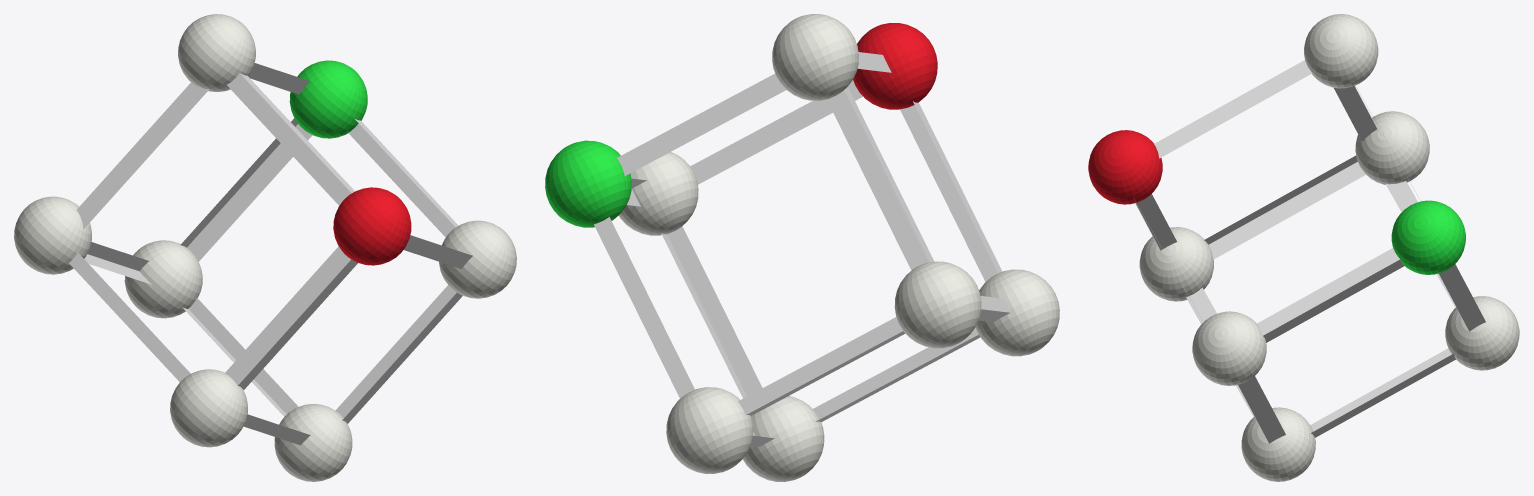
3 renders of one model, left to right at view 1: azimuth 30°, elevation 25°; view 2: azimuth 150°, elevation 25°; view 3: azimuth 270°, elevation 25°, orthographic. The views are drawn at different scales.
Visible parts, largest first — view 1: Sphere.008; view 2: Sphere.008; view 3: Sphere.008.
Boxes of the visible parts, box(x1,y1,x2,y2) form: Sphere.008: box(14, 14, 516, 481); Sphere.008: box(545, 14, 1059, 481); Sphere.008: box(1088, 14, 1519, 481).
Size of the model in its own units: 3602 by 3827 by 3469.
